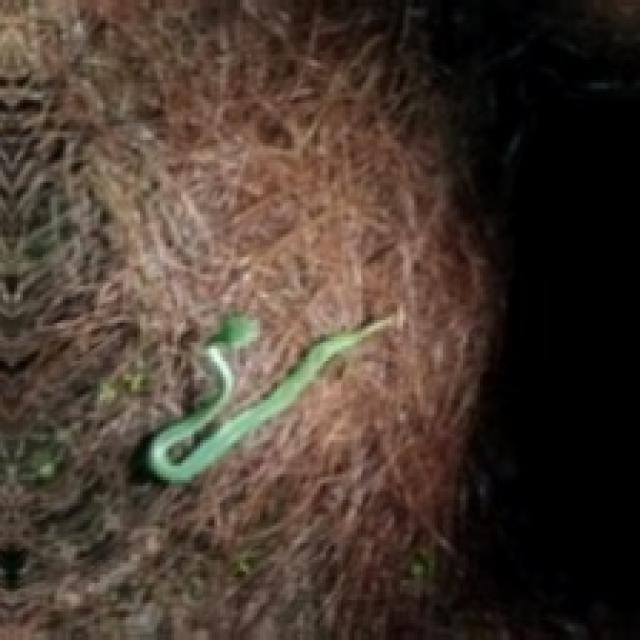north ph temple pitviper: (146, 314, 394, 480)
